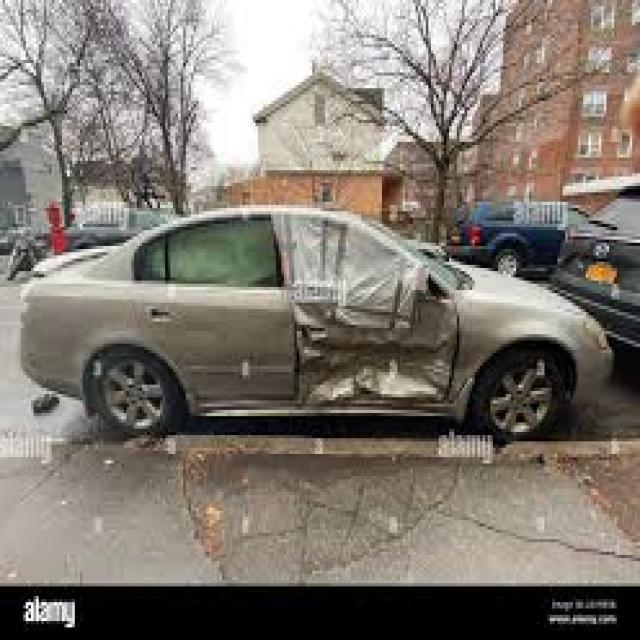damaged-door: (279, 212, 461, 421)
